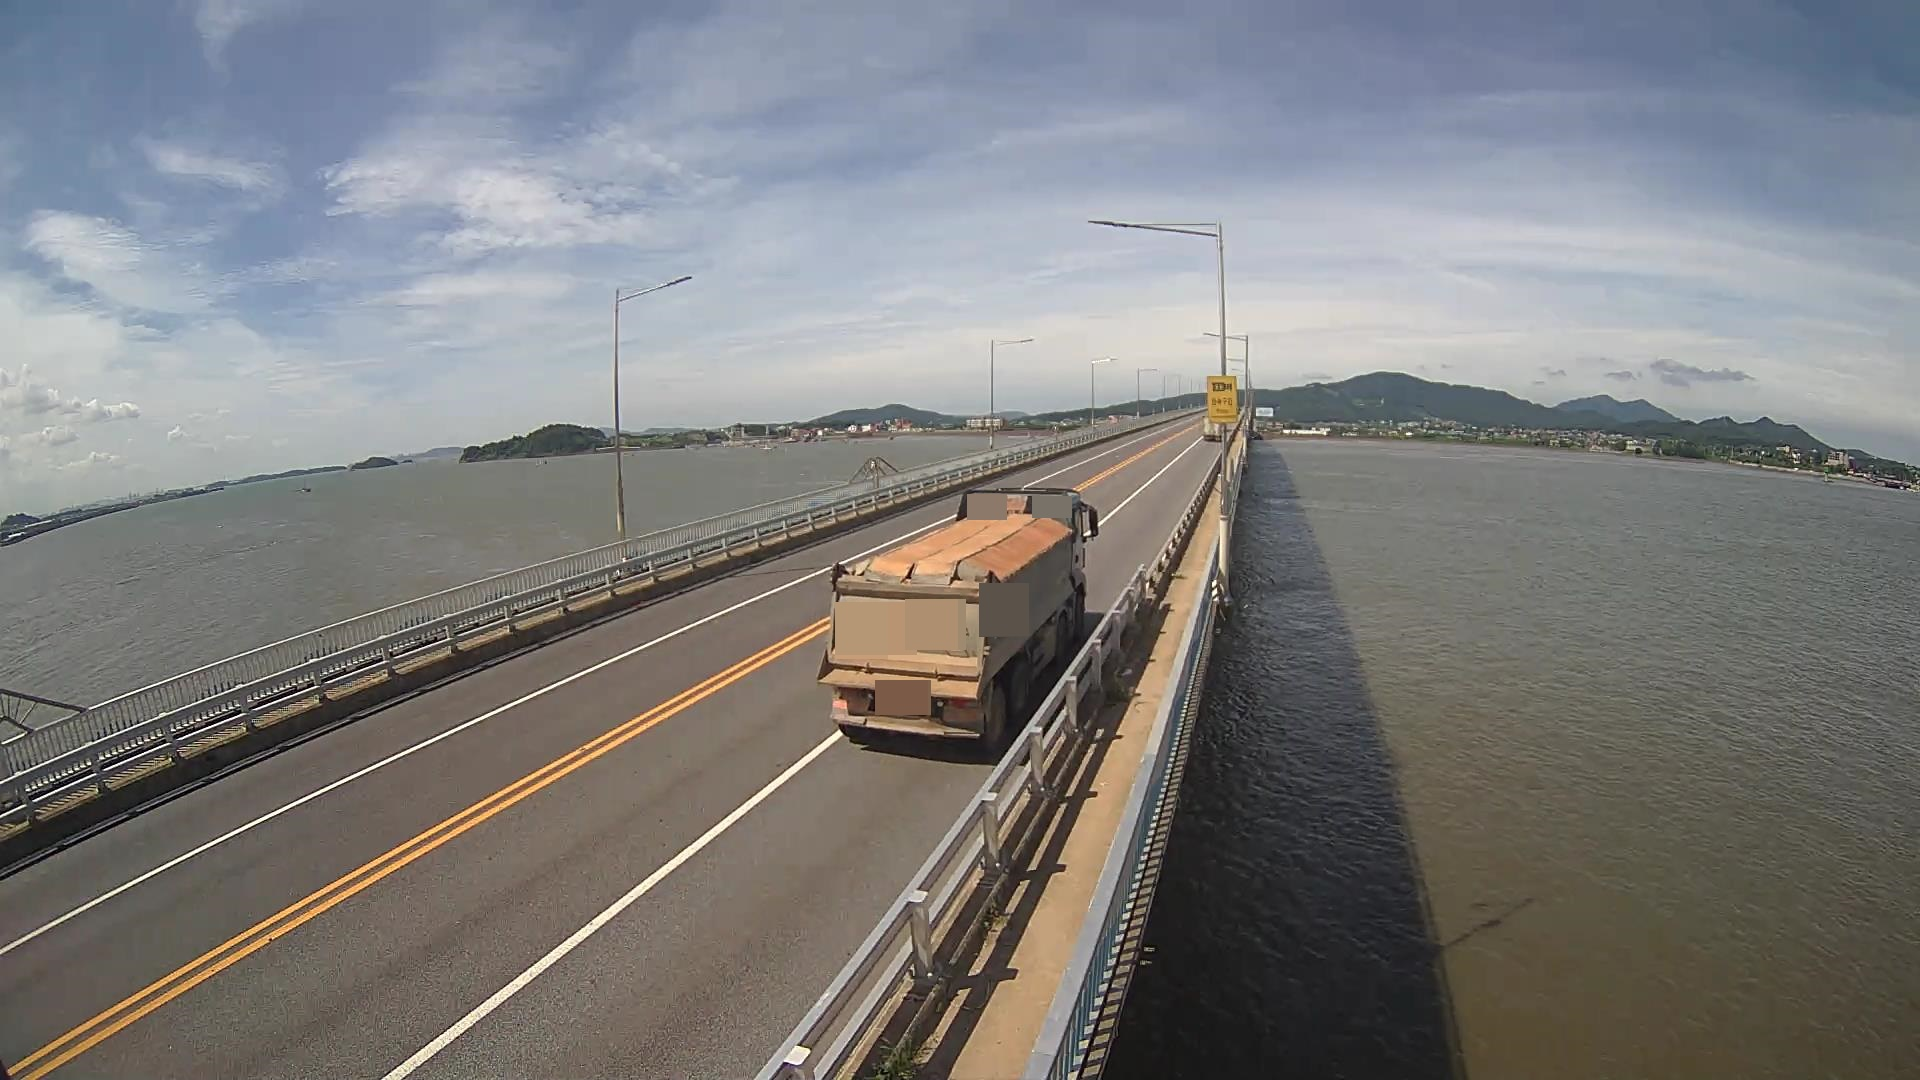정상차량: (815, 487, 1100, 753)
